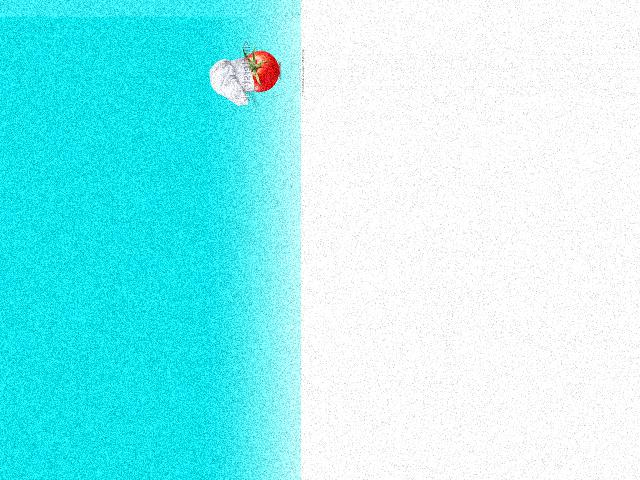tomato: (244, 51, 278, 92)
